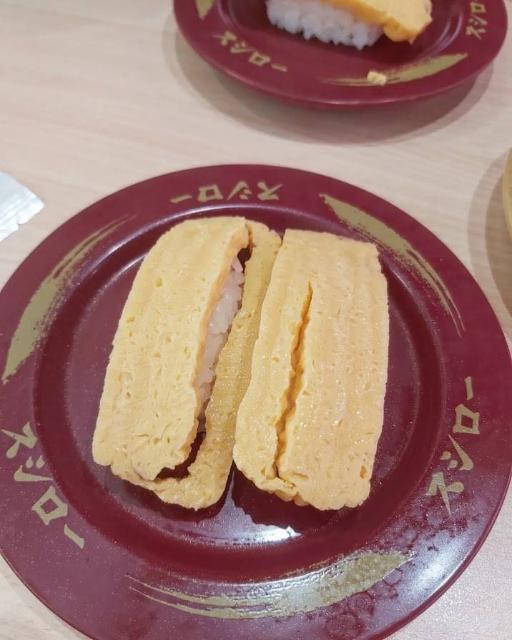janred: (42, 184, 484, 608), (148, 0, 460, 159)
